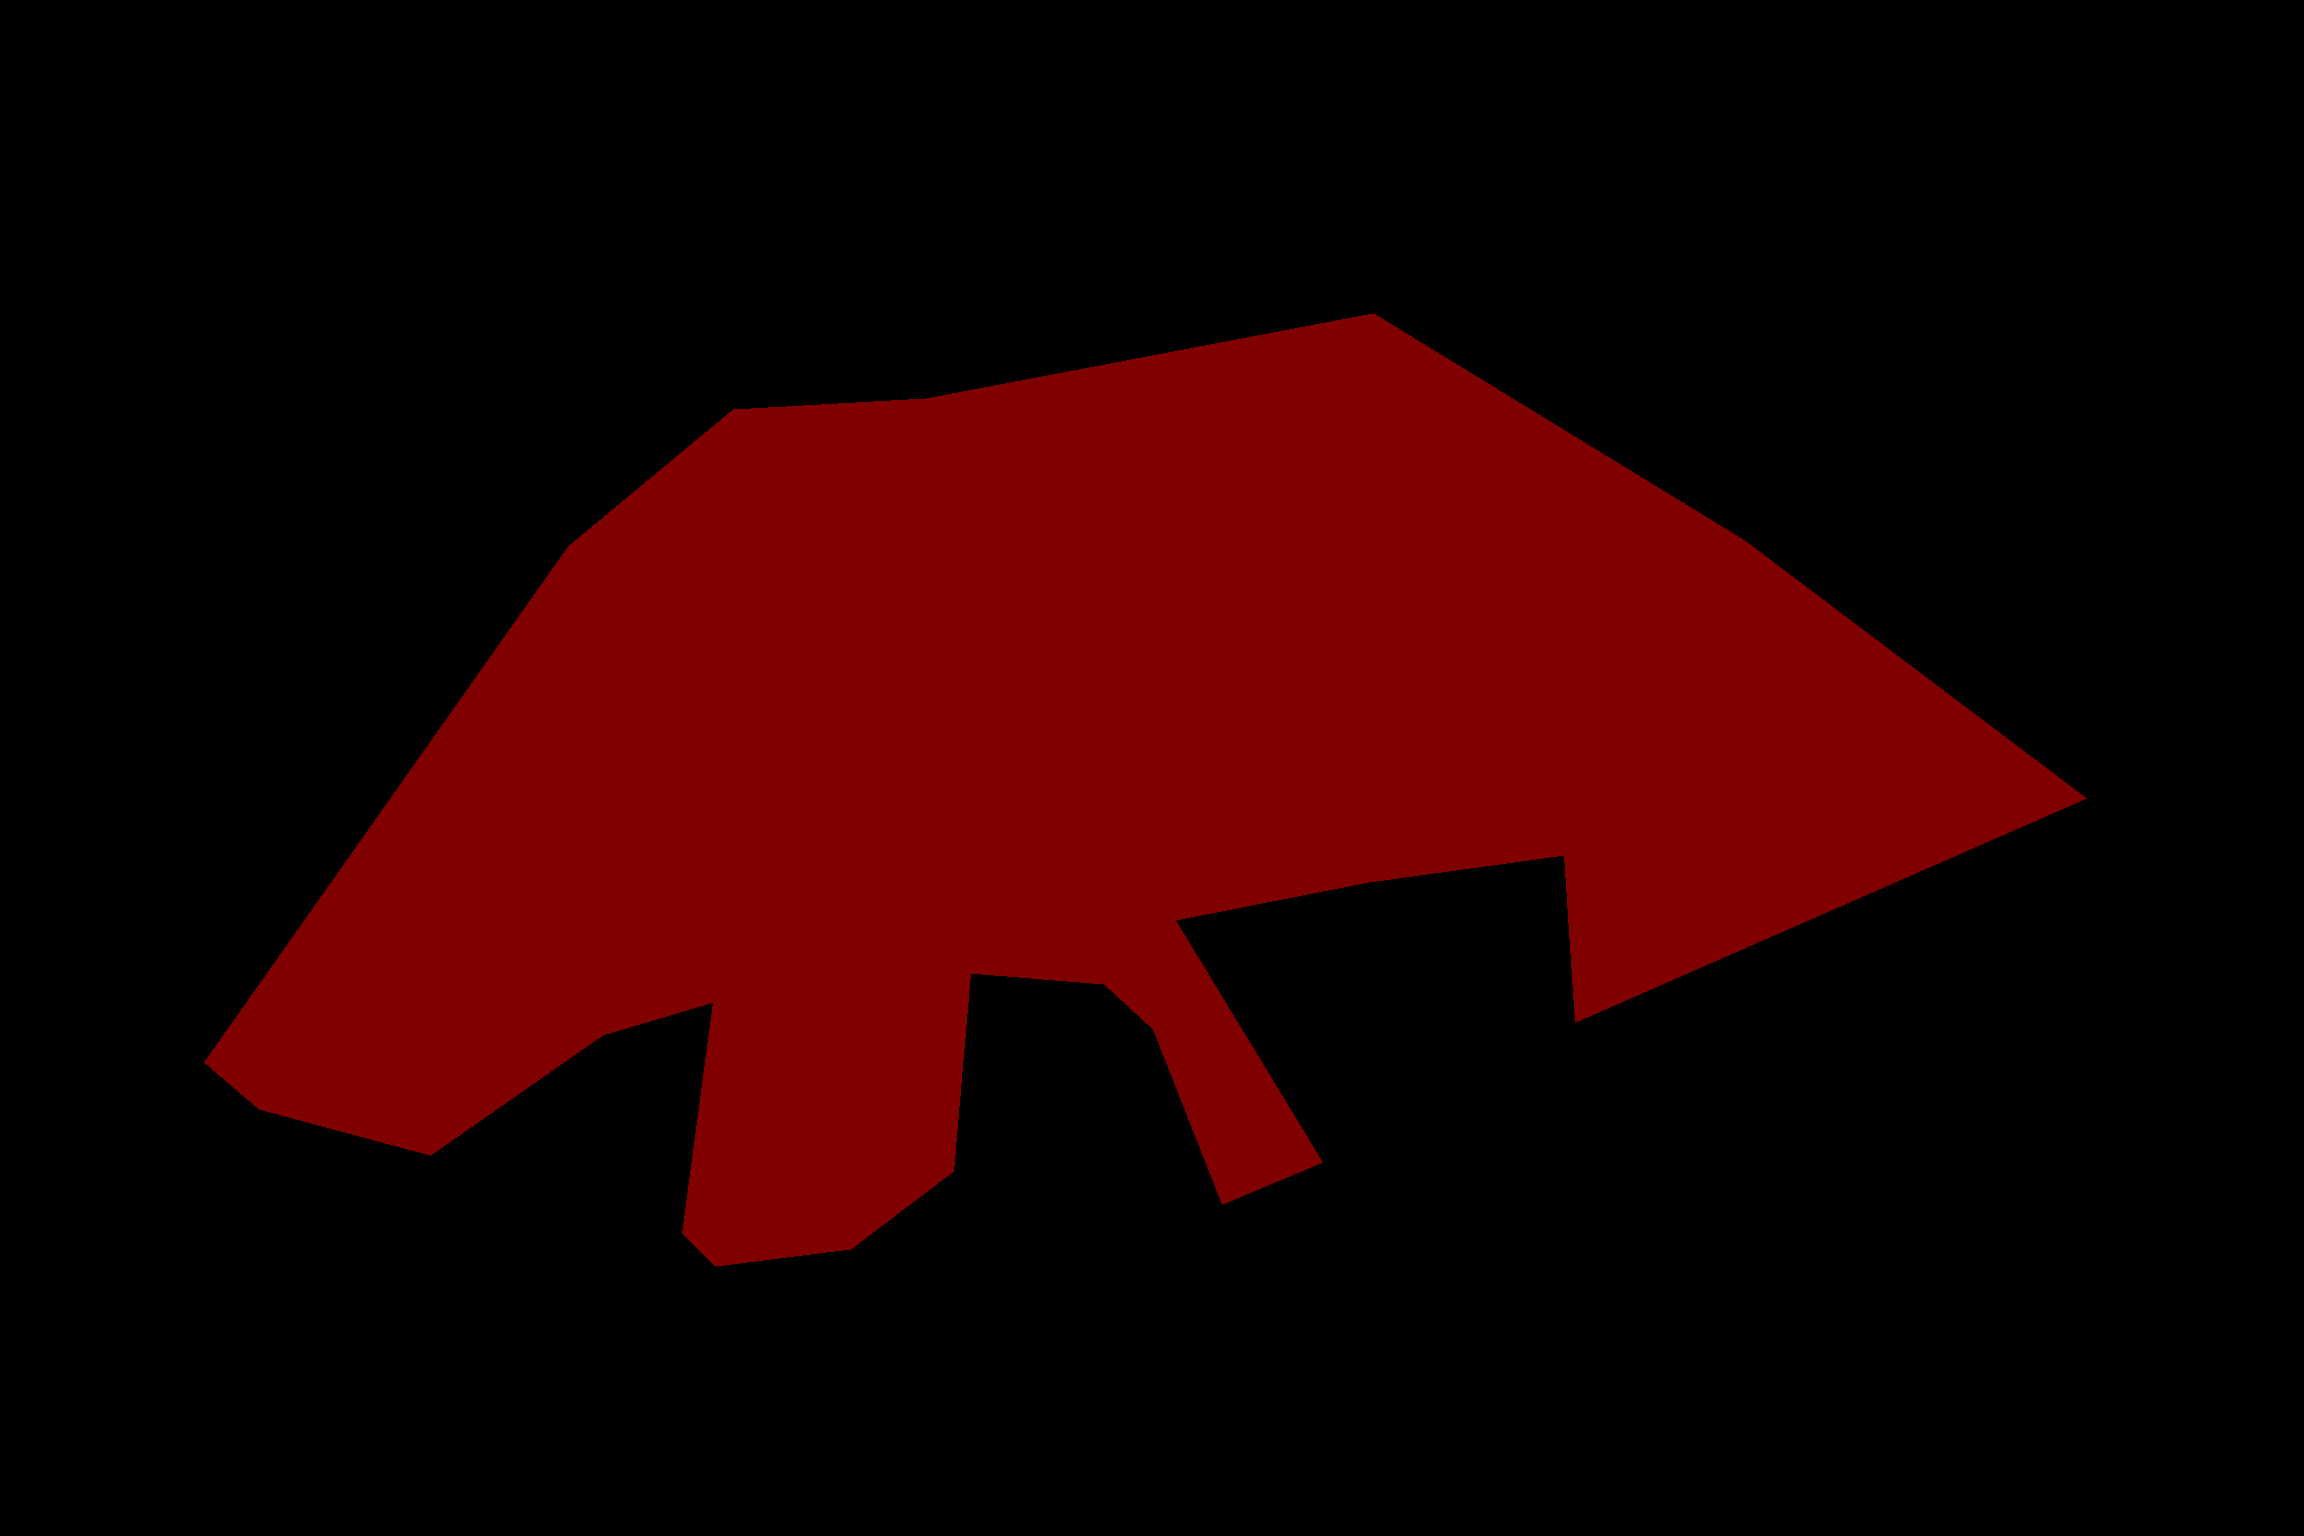fire: (204, 314, 2086, 1265)
